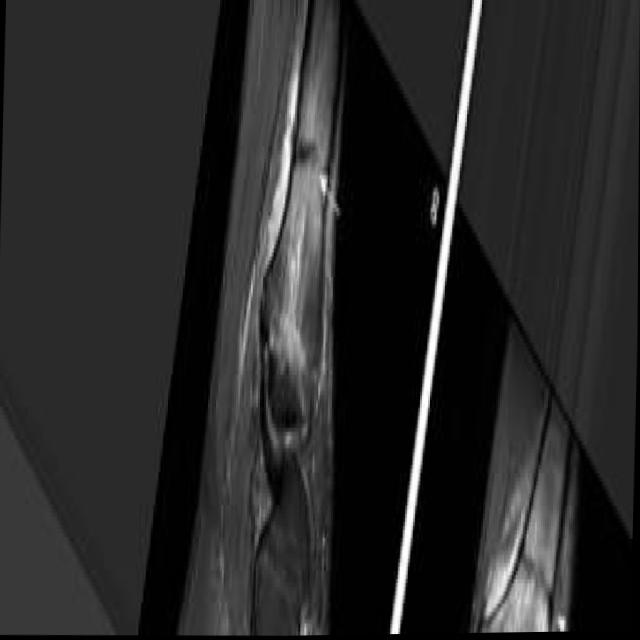Transverse Displaced: (508, 537, 560, 612), (285, 132, 333, 201)
